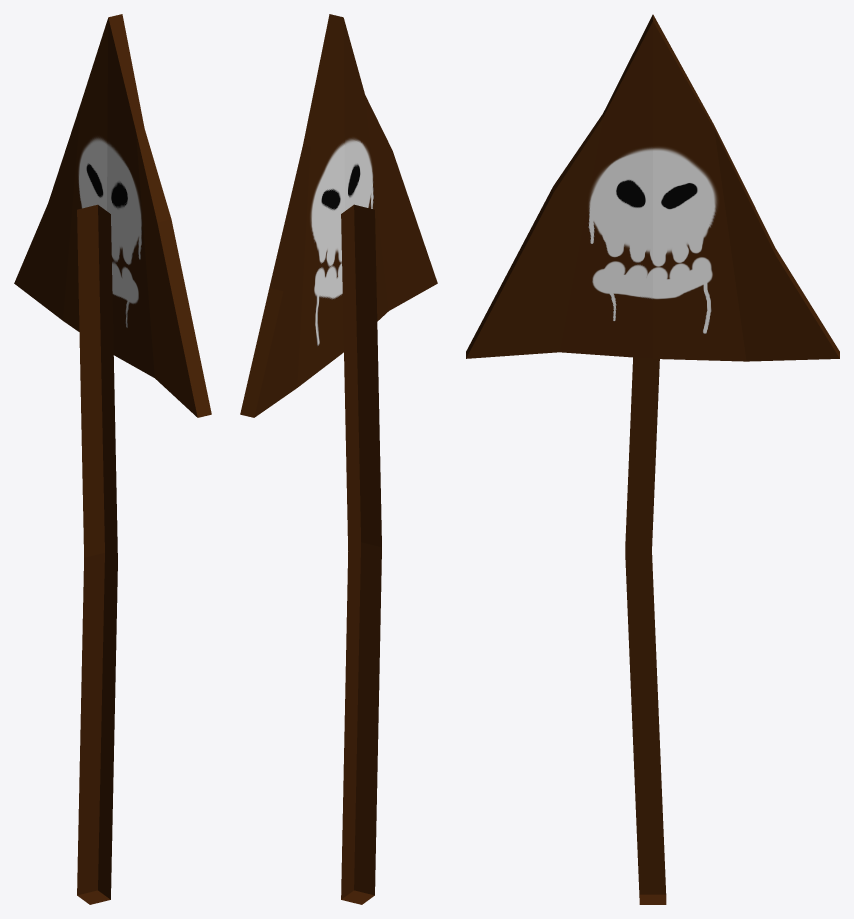
Rendered from placa.fbx.
3 views of the same model, side by side, from view 1: azimuth 30°, elevation 25°; view 2: azimuth 150°, elevation 25°; view 3: azimuth 270°, elevation 25° (orthographic).
Visible parts, largest first — view 1: Plano; view 2: Plano; view 3: Plano.
Part boxes in pixels (x1,y1,x2,y2): Plano: [14, 14, 211, 904]; Plano: [240, 14, 437, 904]; Plano: [466, 14, 839, 904].
Bounding box in the file's own units: 24.5 × 527 × 200.
Materials: 1 (1 with a texture image).
